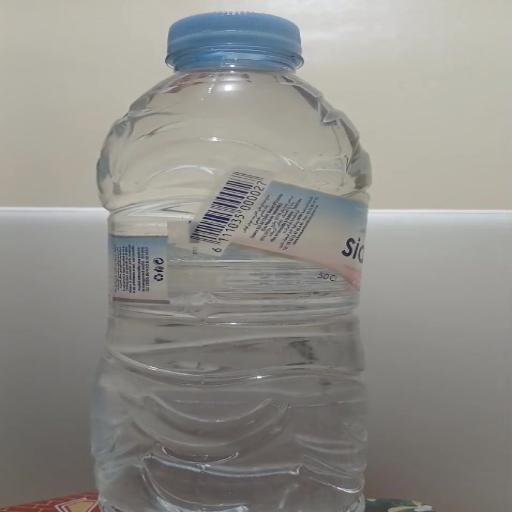bouteille conformite: (80, 13, 370, 503)
